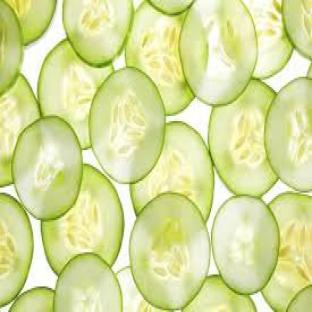Cucumber: (130, 193, 209, 310), (41, 166, 123, 274), (90, 69, 165, 182), (131, 122, 214, 219), (38, 41, 113, 148), (209, 81, 276, 196), (126, 2, 194, 114), (13, 116, 82, 219), (213, 197, 279, 294), (264, 193, 311, 311), (265, 79, 311, 190), (0, 76, 39, 185), (54, 255, 122, 311), (0, 195, 32, 306), (183, 277, 256, 311), (117, 268, 166, 311), (10, 287, 54, 311), (288, 285, 311, 311), (308, 65, 311, 78)
